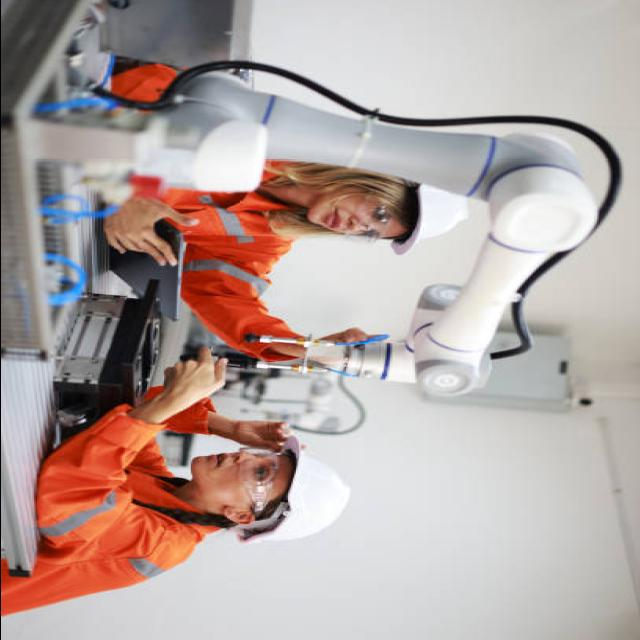Robotic-arm: (118, 43, 606, 397)
